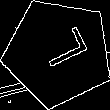L_SW: (29, 28, 88, 77)
